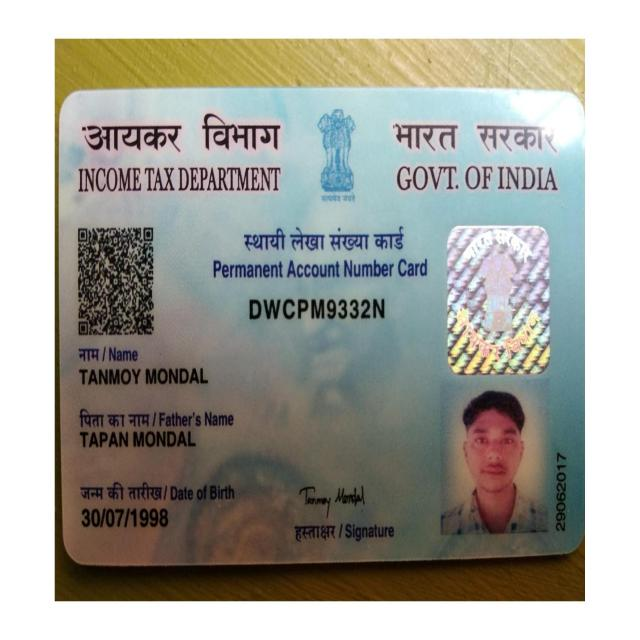pan_card: (65, 96, 580, 562)
